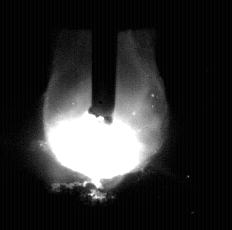arame: (92, 0, 117, 123)
poca: (41, 0, 169, 230)
